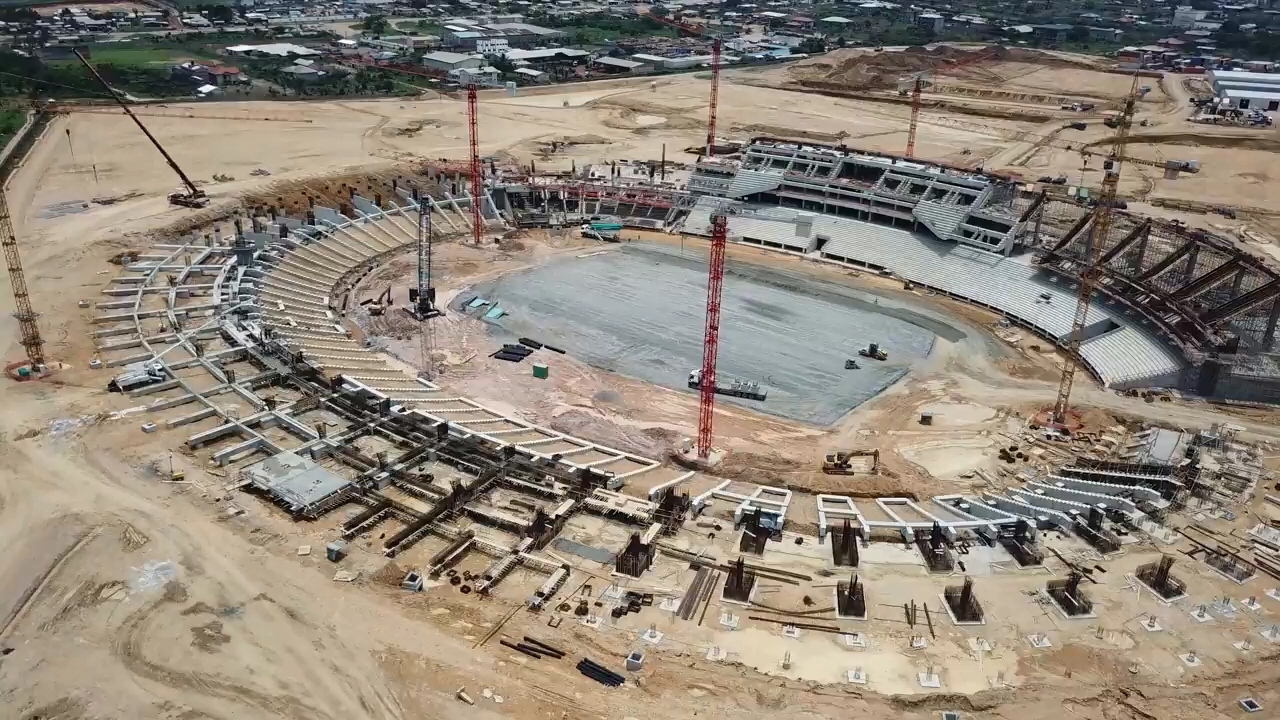ismakinesi: (363, 282, 400, 322)
kamyon: (682, 365, 769, 403)
traktor: (858, 337, 892, 359)
